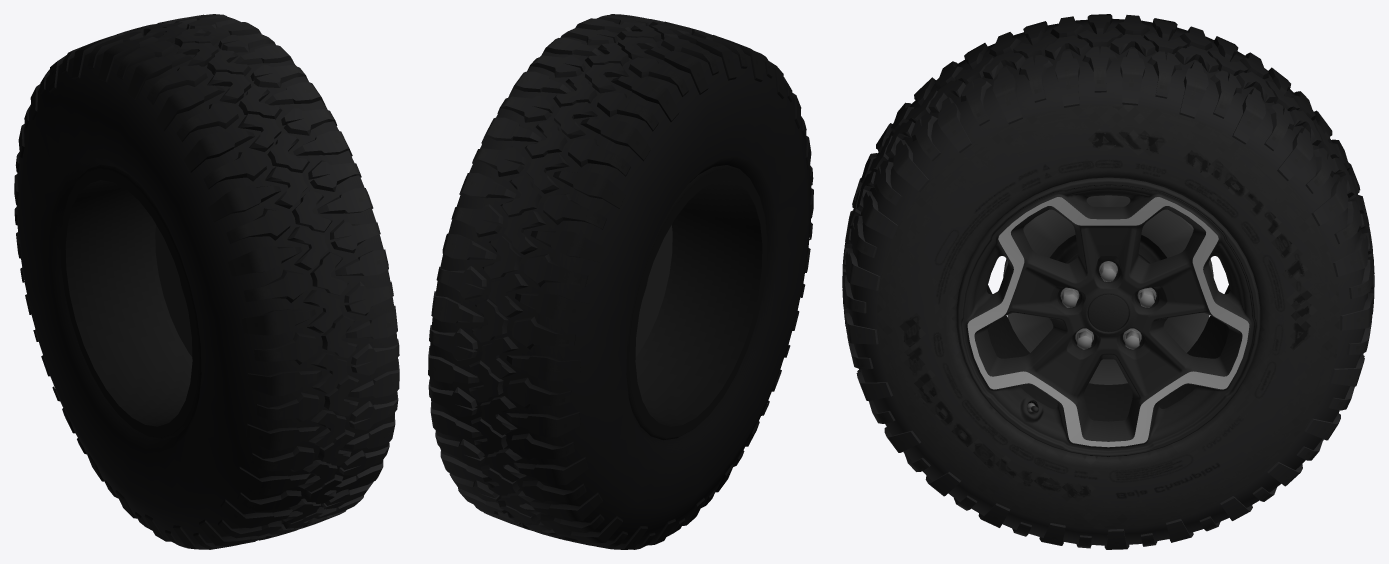
File: car.jeep.gladiator.wheel.glb
3 renders of one model, left to right at view 1: azimuth 30°, elevation 25°; view 2: azimuth 150°, elevation 25°; view 3: azimuth 270°, elevation 25°, orthographic.
Visible parts, largest first — view 1: wheel; view 2: wheel; view 3: wheel.
Boxes of the visible parts, x1,y1,x2,y2 form: wheel: (14,14,399,549); wheel: (428,14,813,549); wheel: (842,14,1374,549).
Bounding box in the file's own units: 0.3124 × 0.8307 × 0.8303.
Materials: 1 (1 with a texture image).
